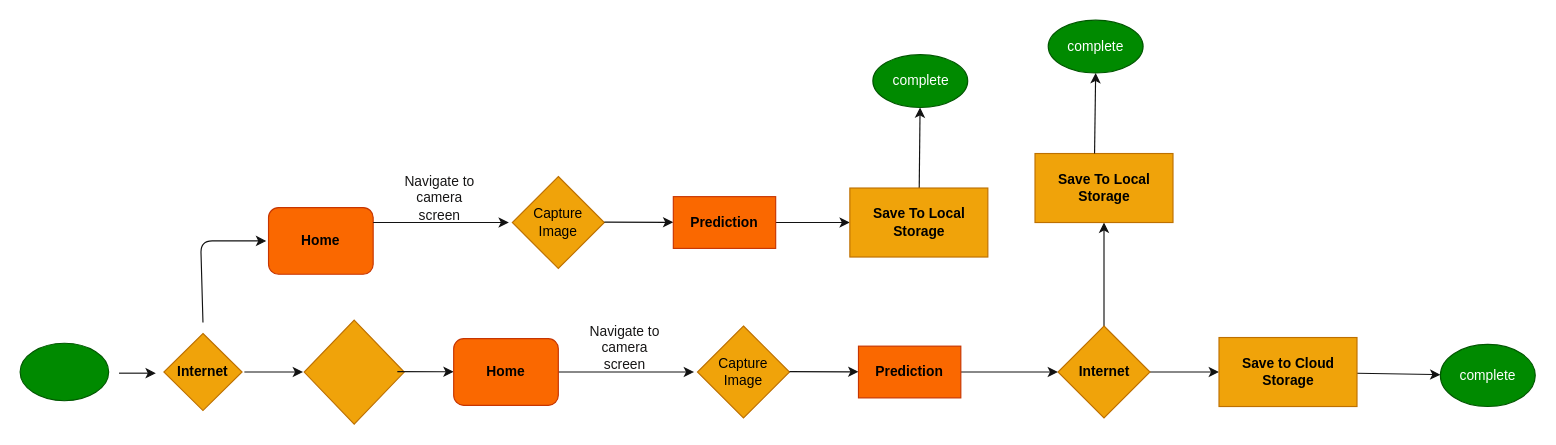
Some shapes in this 1556 by 445 pixel diagram are drawn without their labels. The shapes that lost their labels are listed below. From the top down, each one's box as (x1, y1, x2, y2) in pixels, then its label:
(19, 342, 109, 401): Start
(303, 319, 404, 424): Registration
